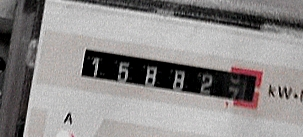1: (87, 54, 104, 77)
2: (197, 71, 216, 97)
5: (115, 57, 132, 84)
7: (227, 82, 241, 100)
8: (170, 67, 187, 93), (143, 63, 159, 88)
screen: (70, 38, 273, 119)
